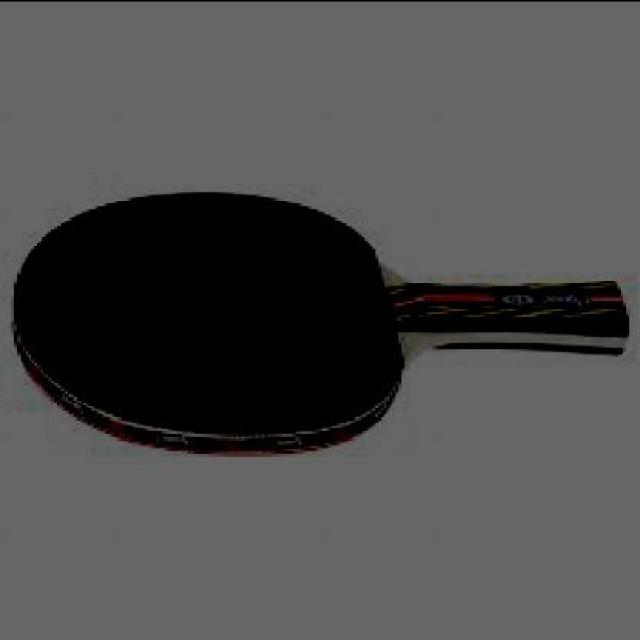table_tennis_racket: (12, 192, 625, 457)
